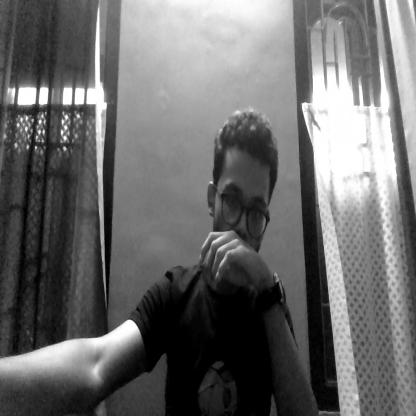Distracted: (205, 114, 283, 282)
